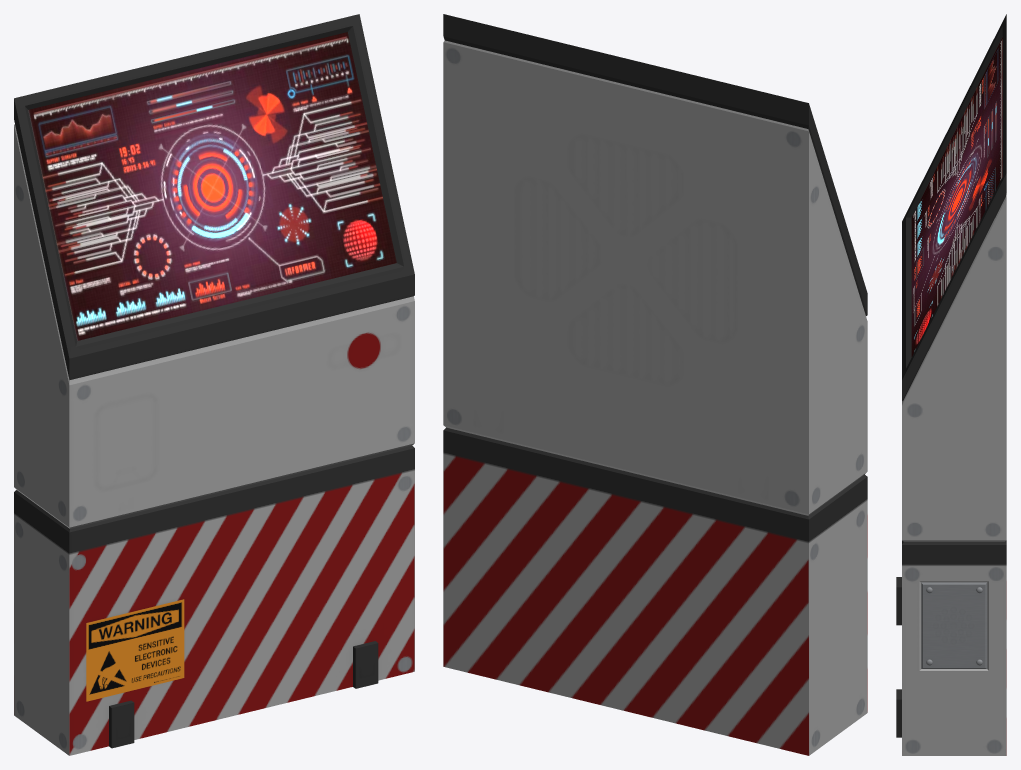
The model's file is ComputerConsole1.fbx.
The picture shows the model from 3 angles, left to right: view 1: azimuth 30°, elevation 25°; view 2: azimuth 150°, elevation 25°; view 3: azimuth 270°, elevation 25°; orthographic projection. The views are drawn at different scales.
Parts seen in each view (by area): view 1: ComputerConsole1; view 2: ComputerConsole1; view 3: ComputerConsole1.
Part boxes in pixels (x1=…): ComputerConsole1: x1=14, y1=14, x2=414, y2=755; ComputerConsole1: x1=443, y1=14, x2=867, y2=755; ComputerConsole1: x1=896, y1=14, x2=1006, y2=755.
Bounding box in the file's own units: 82.16 × 139 × 23.85.
